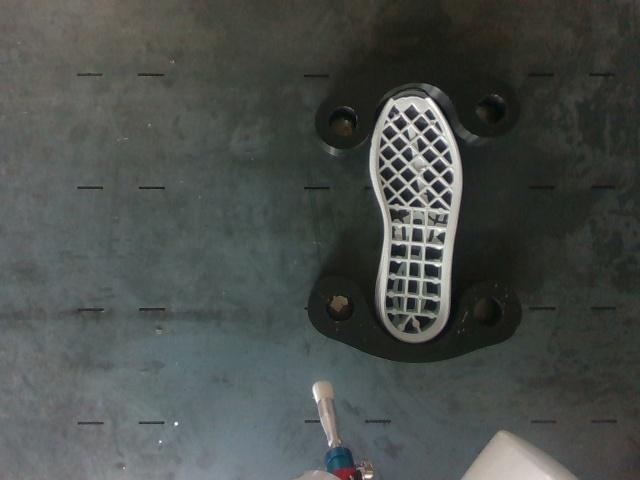shoes: (375, 90, 461, 342)
